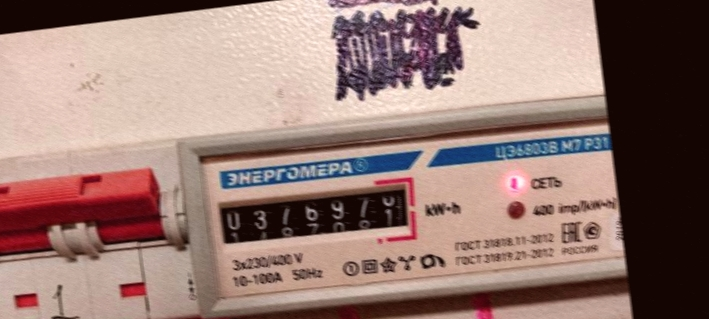0: (222, 207, 239, 230)
1: (380, 206, 393, 227)
3: (250, 207, 267, 230)
6: (301, 197, 318, 222)
7: (275, 201, 293, 227), (352, 194, 370, 218)
9: (327, 196, 343, 219)
screen: (206, 165, 422, 266)
